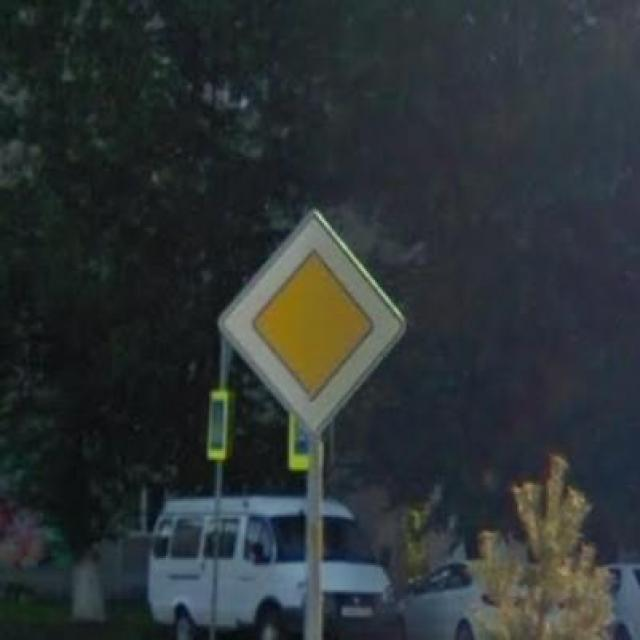Droga z pierwszenstwem: (215, 204, 407, 441)
